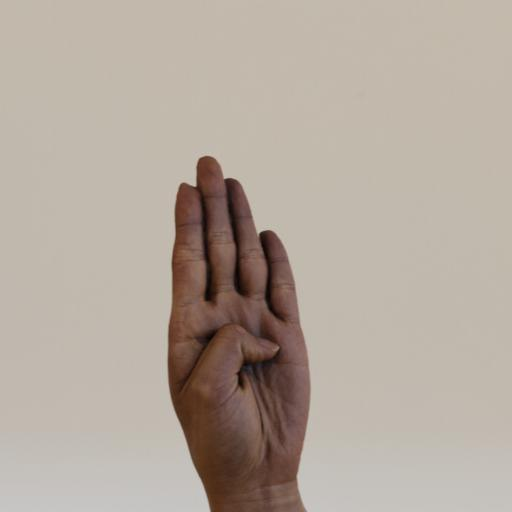B: (140, 129, 326, 483)
